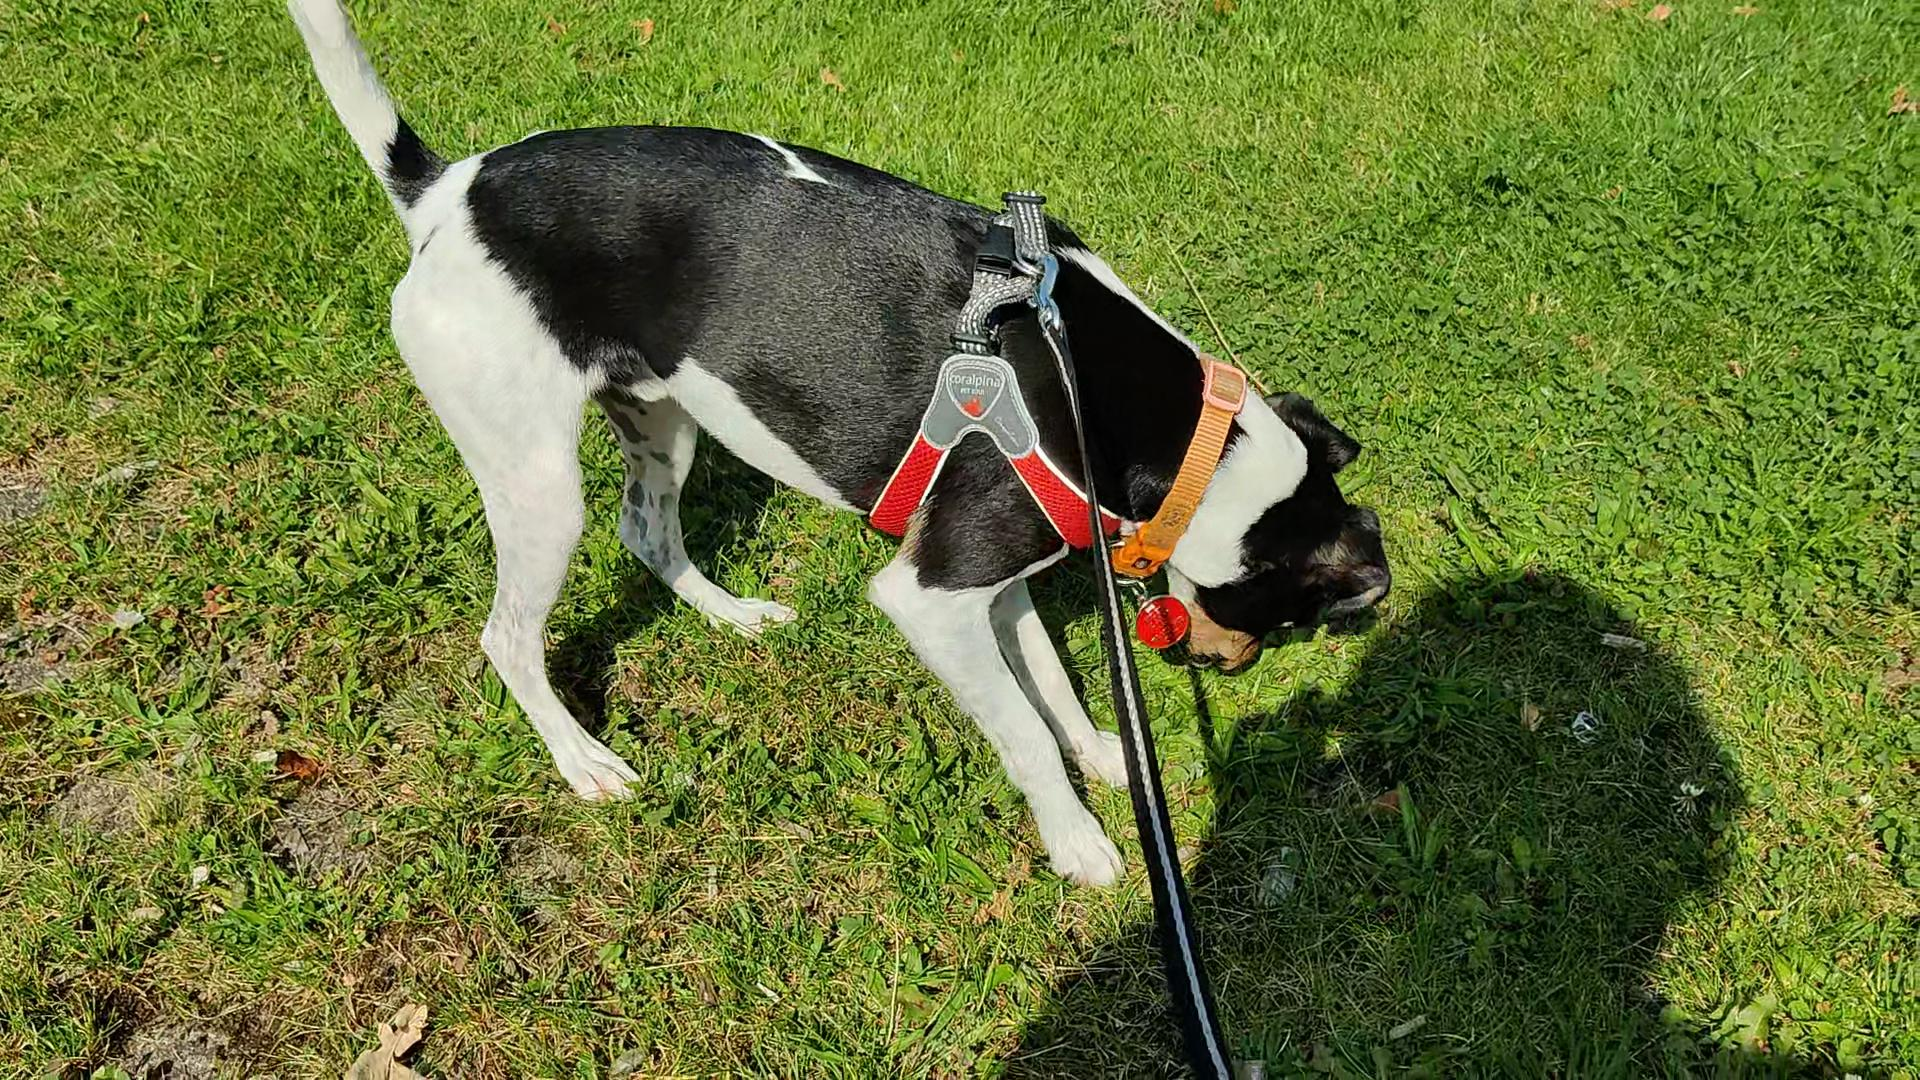Dog: (255, 0, 1411, 891)
